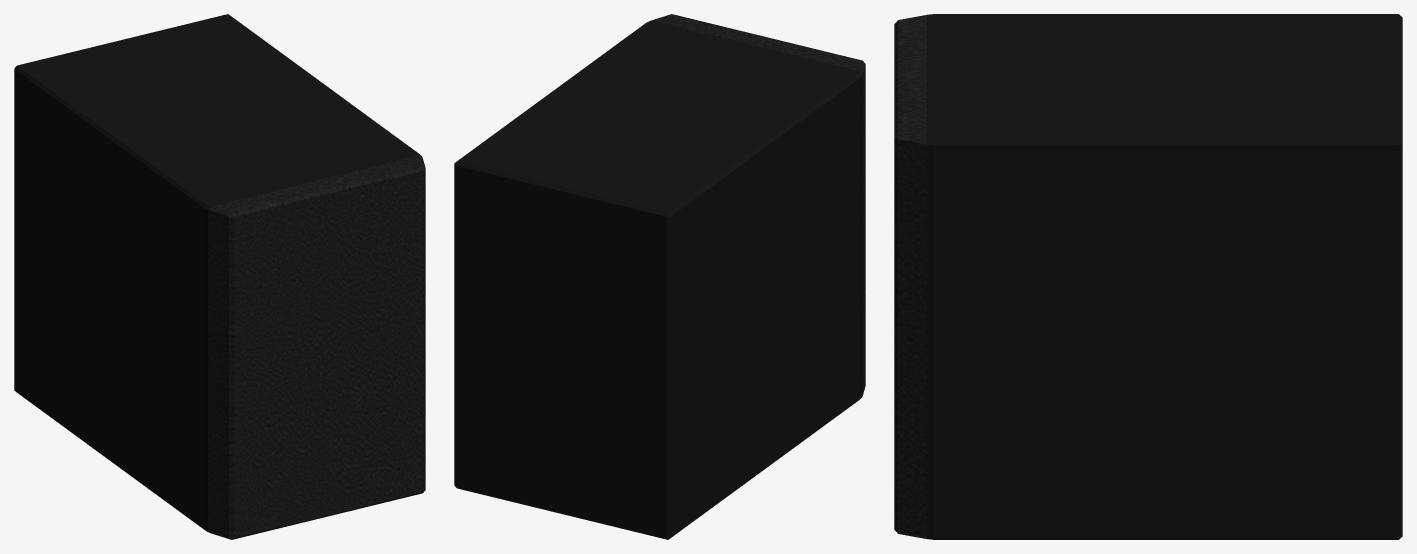
File: sound1f.FBX
3 views of the same model, side by side, from view 1: azimuth 30°, elevation 25°; view 2: azimuth 150°, elevation 25°; view 3: azimuth 270°, elevation 25° (orthographic). The views are drawn at different scales.
Visible parts, largest first — view 1: sound1f; view 2: sound1f; view 3: sound1f.
Part boxes in pixels (x1,y1,x2,y2): sound1f: [14, 14, 425, 539]; sound1f: [454, 14, 865, 539]; sound1f: [894, 14, 1402, 539].
Bounding box in the file's own units: 0.1589 × 0.2639 × 0.2292.
